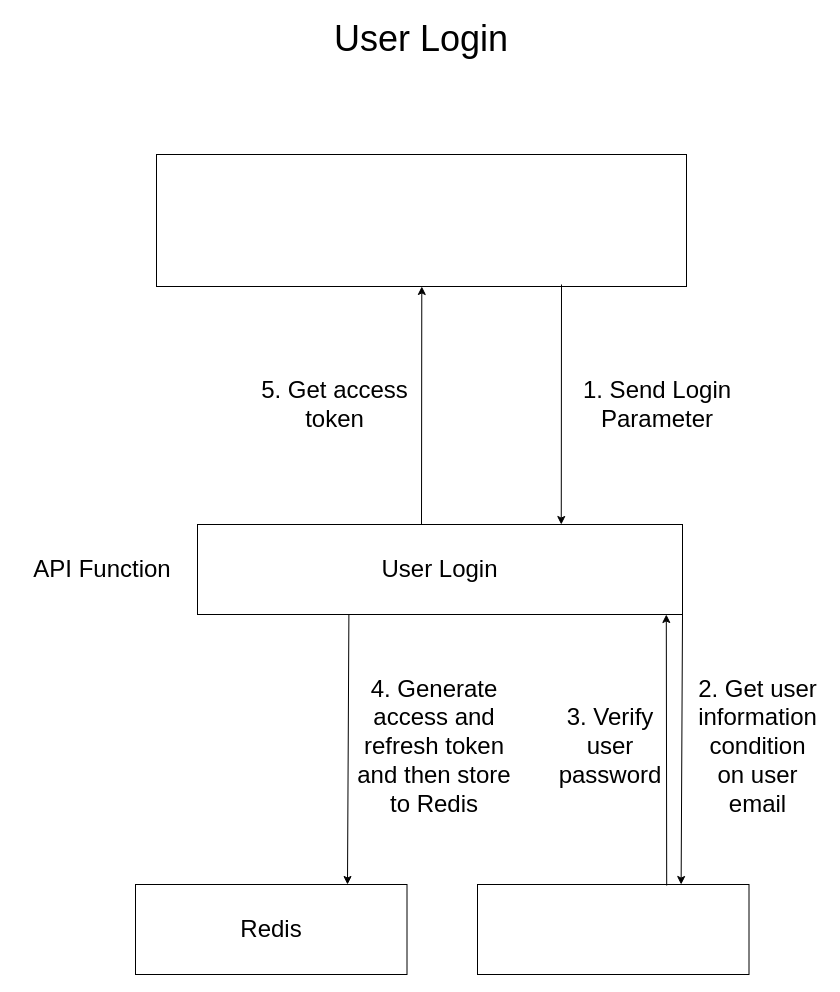
The diagram is 840 pixels wide and 992 high, and some of its shapes have lost their labels. Each missing label, with the box of its shape:
Client: (156, 154, 686, 286)
MYSQL Database: (476, 884, 749, 974)
